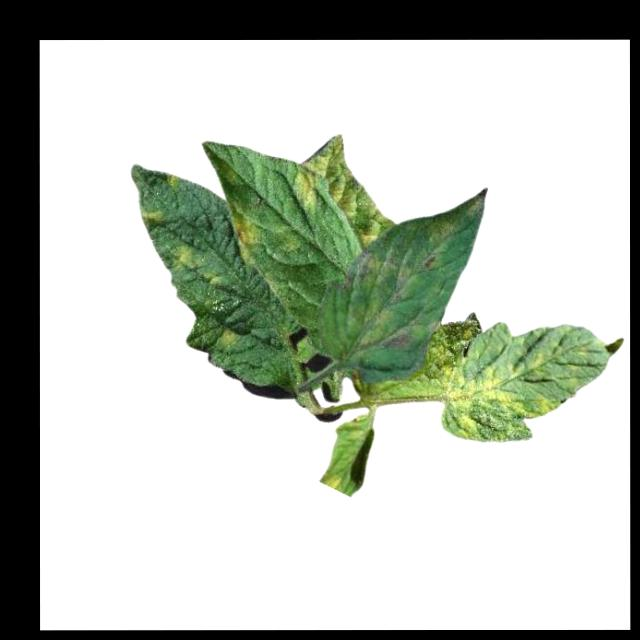Leaf_Mold: (300, 136, 396, 250), (338, 250, 431, 355), (440, 353, 549, 440), (400, 184, 487, 249), (227, 208, 260, 265), (287, 169, 321, 208), (169, 243, 197, 270), (217, 324, 240, 347)
